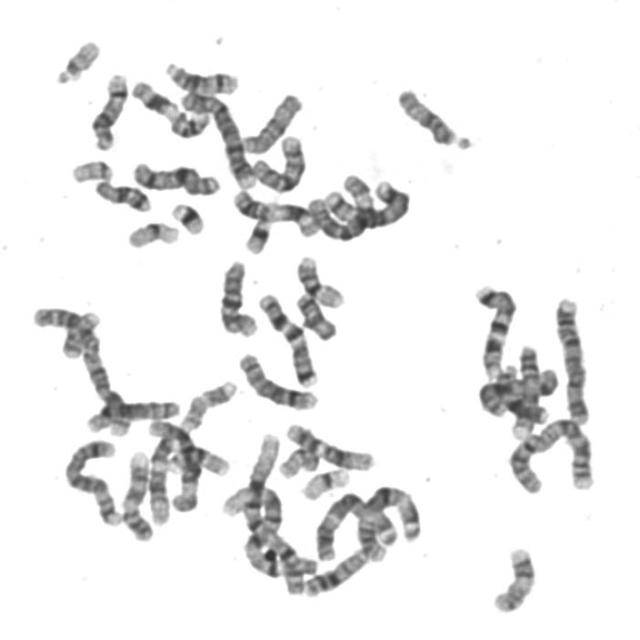A1: (238, 428, 316, 590), (219, 478, 317, 591)
A2: (27, 300, 136, 439), (504, 411, 599, 495)
A3: (311, 484, 414, 564), (353, 478, 425, 564)
B4: (176, 82, 259, 191), (551, 290, 595, 425)
B5: (58, 433, 126, 527), (314, 173, 414, 232)
C10: (214, 253, 262, 339), (247, 128, 309, 193)
C11: (127, 74, 214, 139), (229, 183, 323, 239)
C12: (282, 417, 379, 472), (144, 415, 187, 528)
C6: (142, 412, 204, 516), (303, 167, 376, 242)
C7: (253, 286, 321, 388), (470, 278, 523, 381)
C8: (233, 345, 322, 412), (82, 392, 184, 434)
C9: (506, 339, 543, 441), (118, 444, 156, 543)
D13: (300, 541, 374, 598), (491, 363, 550, 425)
D14: (86, 66, 132, 152), (160, 55, 243, 96)
D15: (392, 81, 474, 151), (238, 87, 306, 154)
E16: (292, 249, 349, 310), (165, 441, 233, 478)
E17: (487, 541, 540, 615), (177, 374, 240, 431)
E18: (291, 286, 342, 342), (89, 173, 156, 214)
F19: (297, 462, 354, 502), (122, 215, 184, 250)
F20: (57, 306, 104, 360), (274, 440, 324, 480)
G21: (240, 205, 277, 256), (166, 196, 208, 236)
G22: (50, 32, 104, 85), (66, 153, 116, 185)
X: (474, 361, 562, 418), (128, 155, 225, 197)
